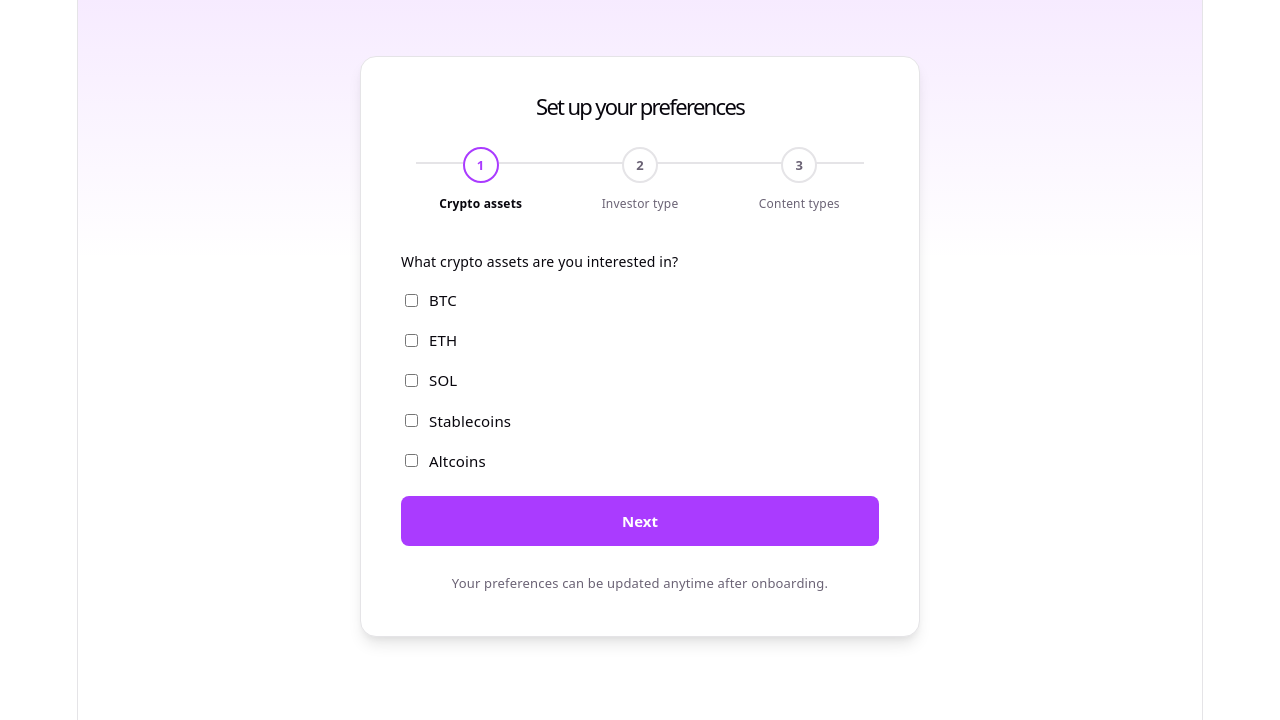
Test: OnboardingPage › advances through steps and preserves values when navigating back
The width and height of the screenshot is (1280, 720).
What coordinates should you click on to do the following:
click the checkbox labelled "BTC"
I would click on:
 (412, 300)
Its box is [405,294,418,307].
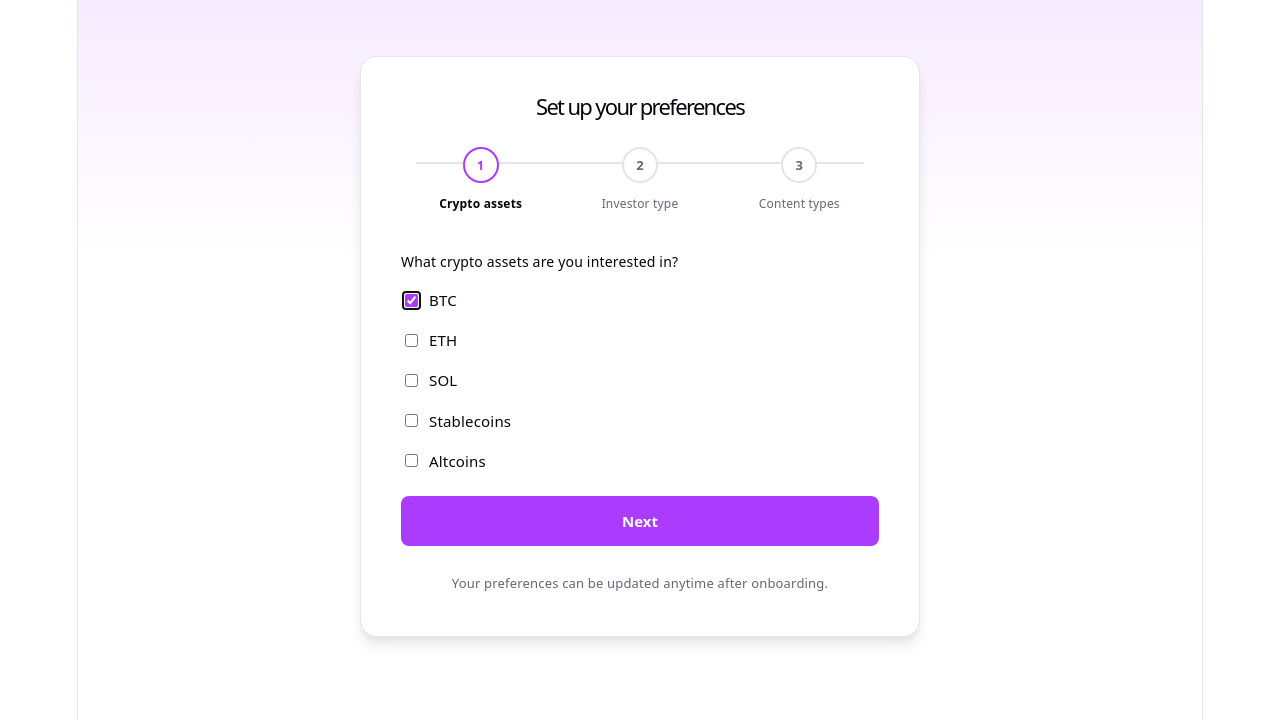
What coordinates should you click on to do the following:
click the button "Next"
I would click on:
 (640, 521)
Its box is [401,496,879,546].
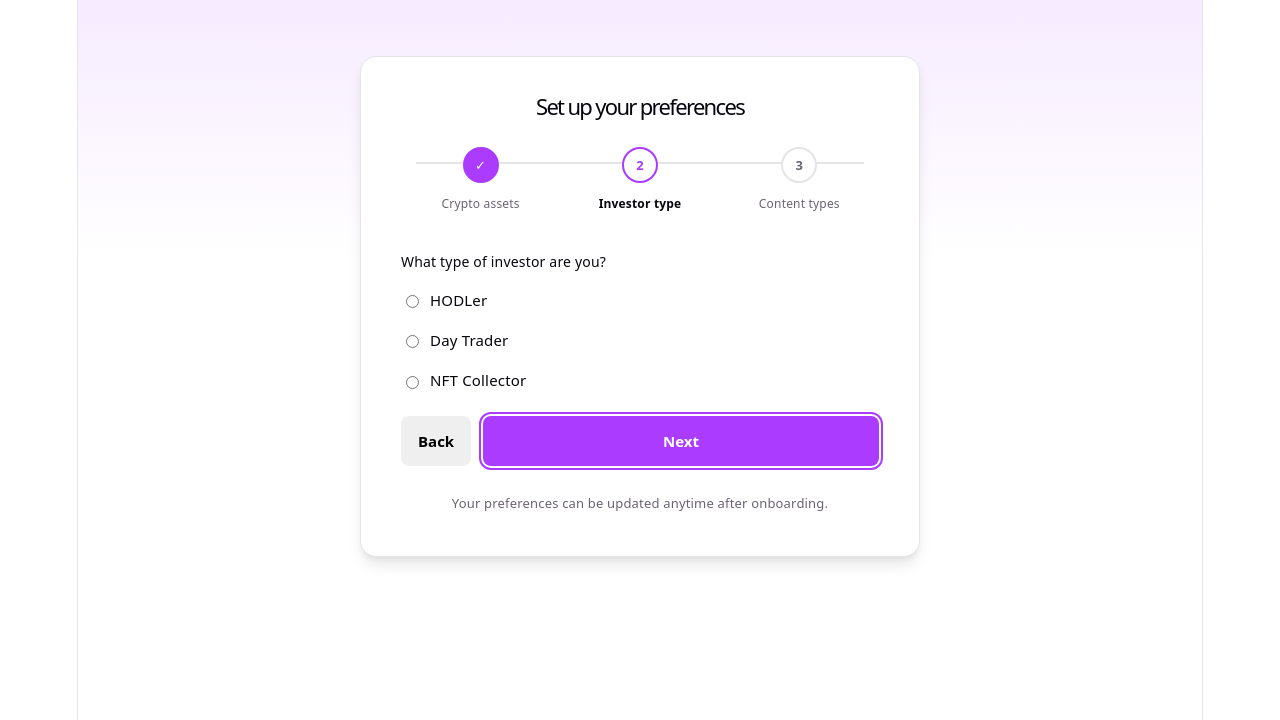
What coordinates should you click on to do the following:
click the radio button labelled "Day Trader"
I would click on:
 (412, 342)
Its box is [406,335,419,348].
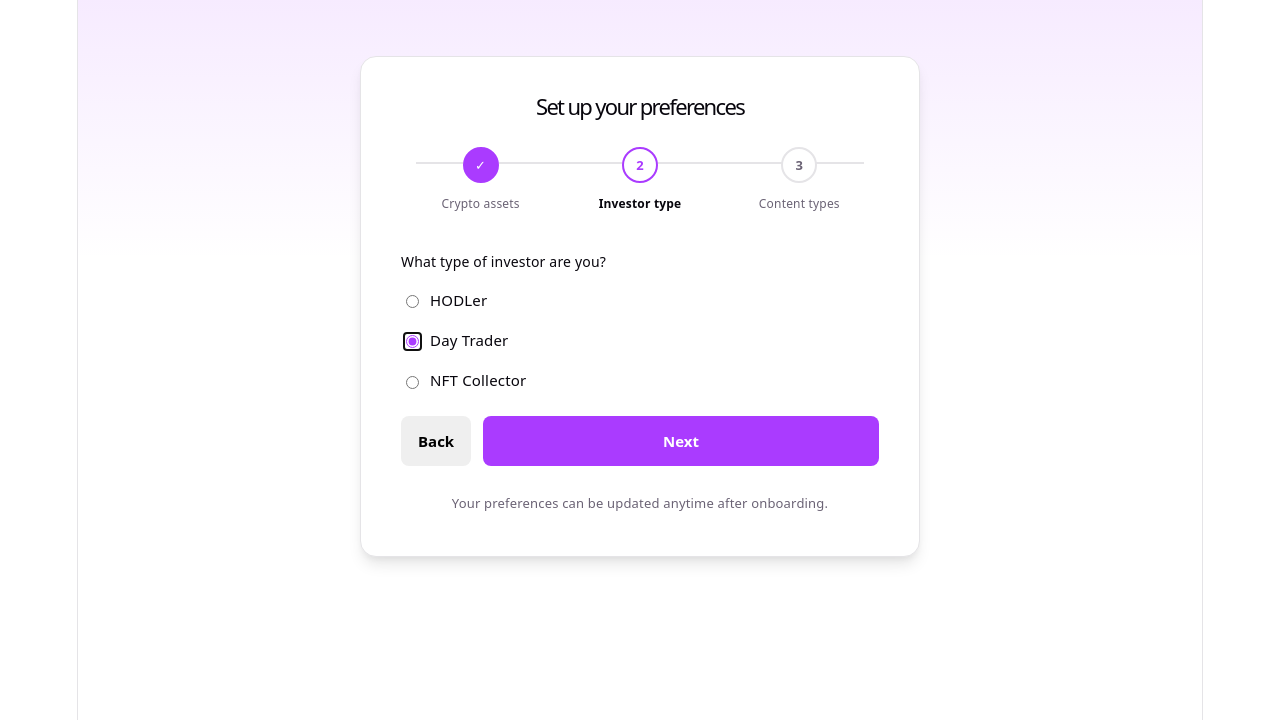
What coordinates should you click on to do the following:
click the button "Next"
I would click on:
 (681, 441)
Its box is [483,416,879,466].
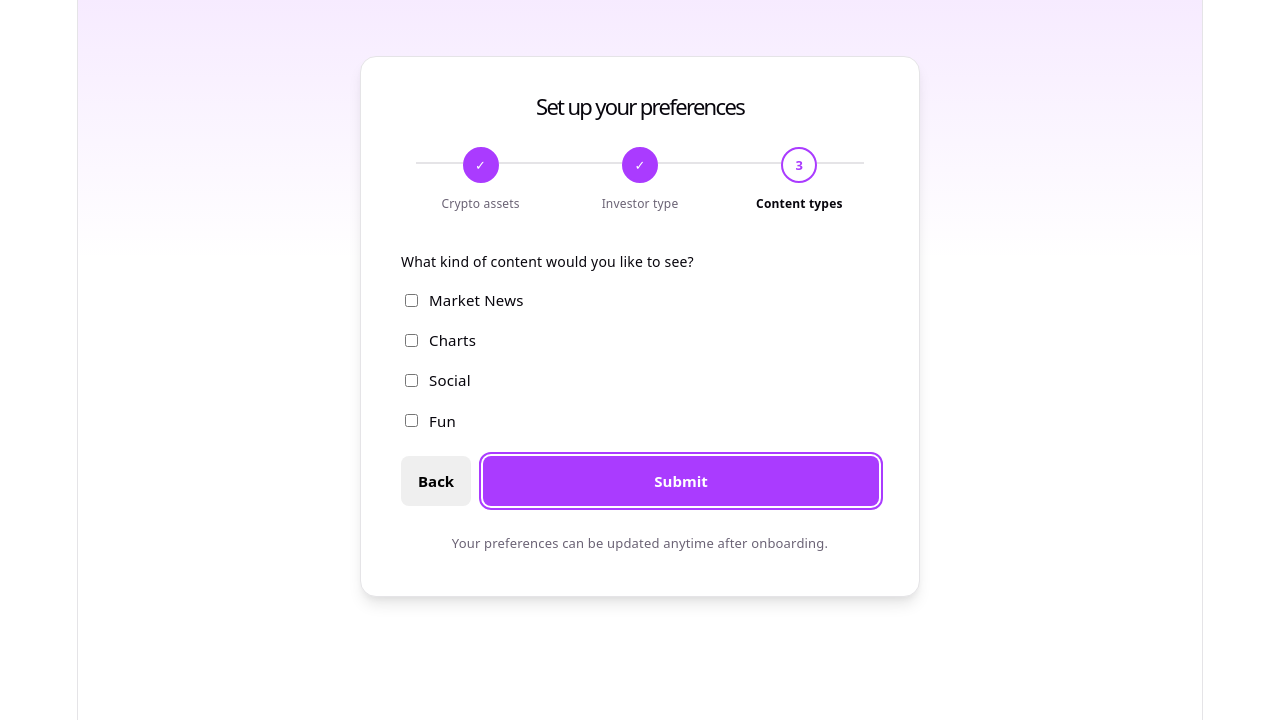
Result: the checkbox labelled "Market News" is shown at [405,294,418,307]
What coordinates should you click on to do the following:
click the button "Back"
I would click on:
 (436, 481)
Its box is [401,456,471,506].
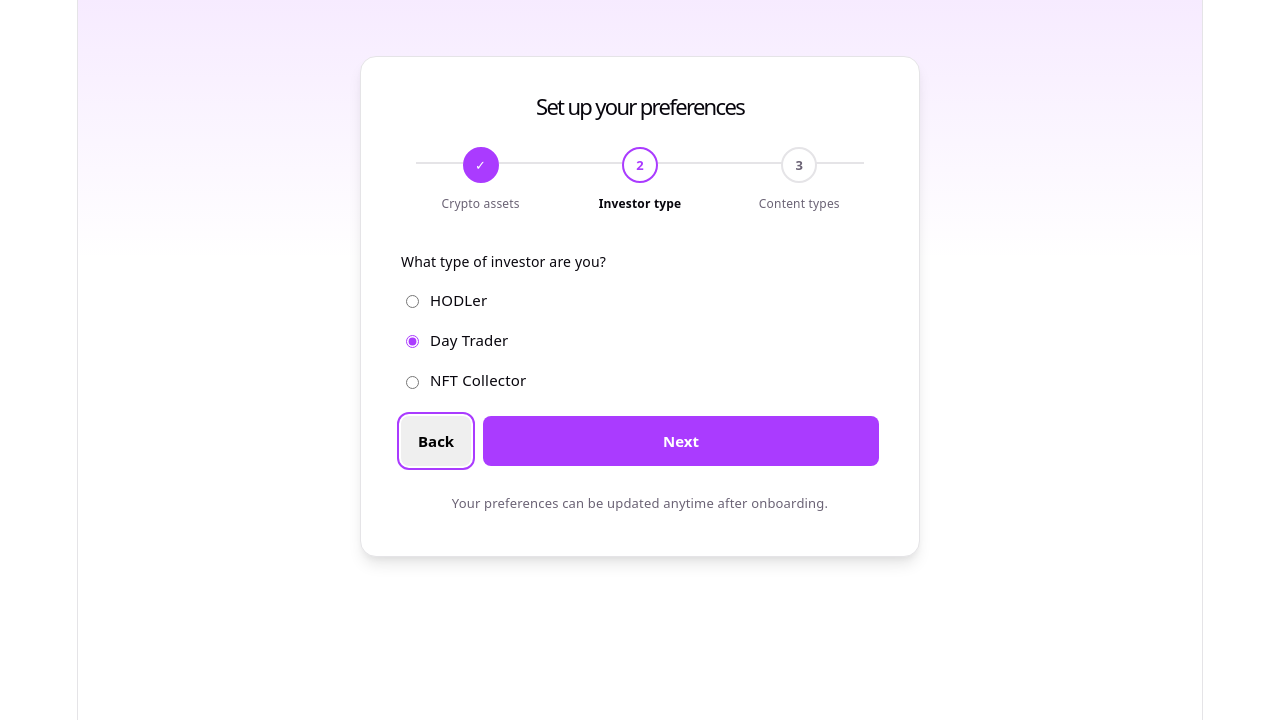
Result: the radio button labelled "Day Trader" is checked at [406,335,419,348]
What coordinates should you click on to do the following:
click the button "Back"
I would click on:
 (436, 441)
Its box is [401,416,471,466].
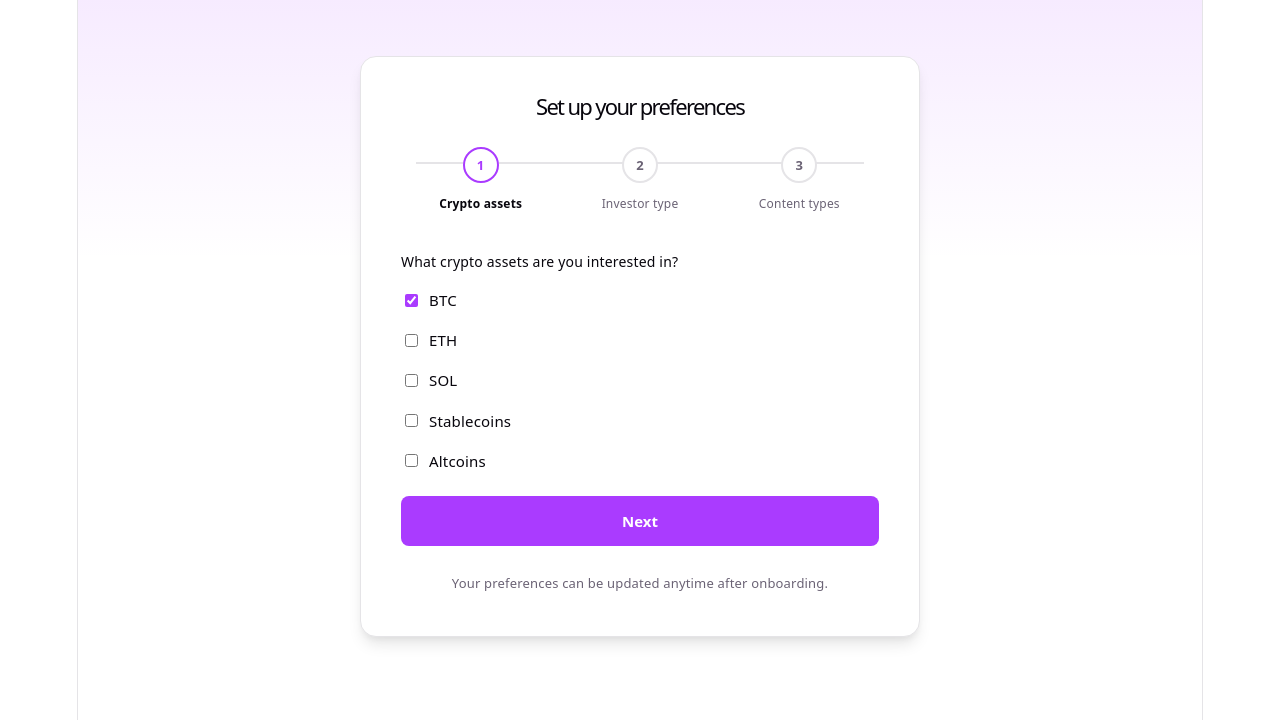
Result: the checkbox labelled "BTC" is checked at [405,294,418,307]
